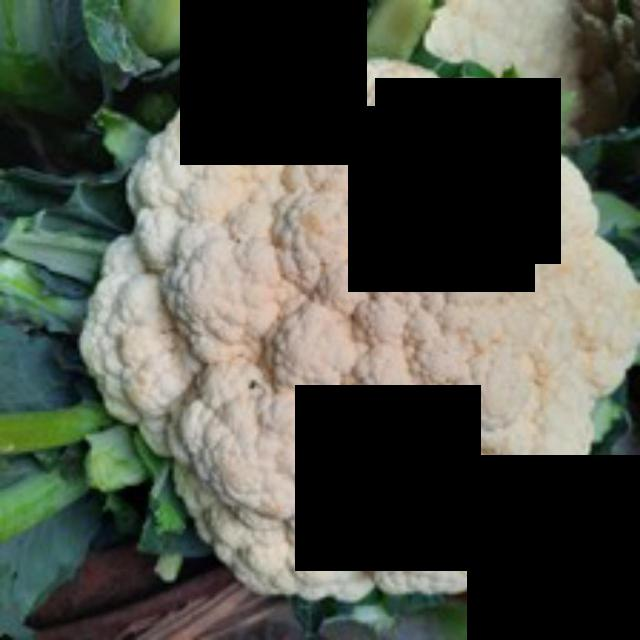cauliflower: (66, 40, 636, 628)
